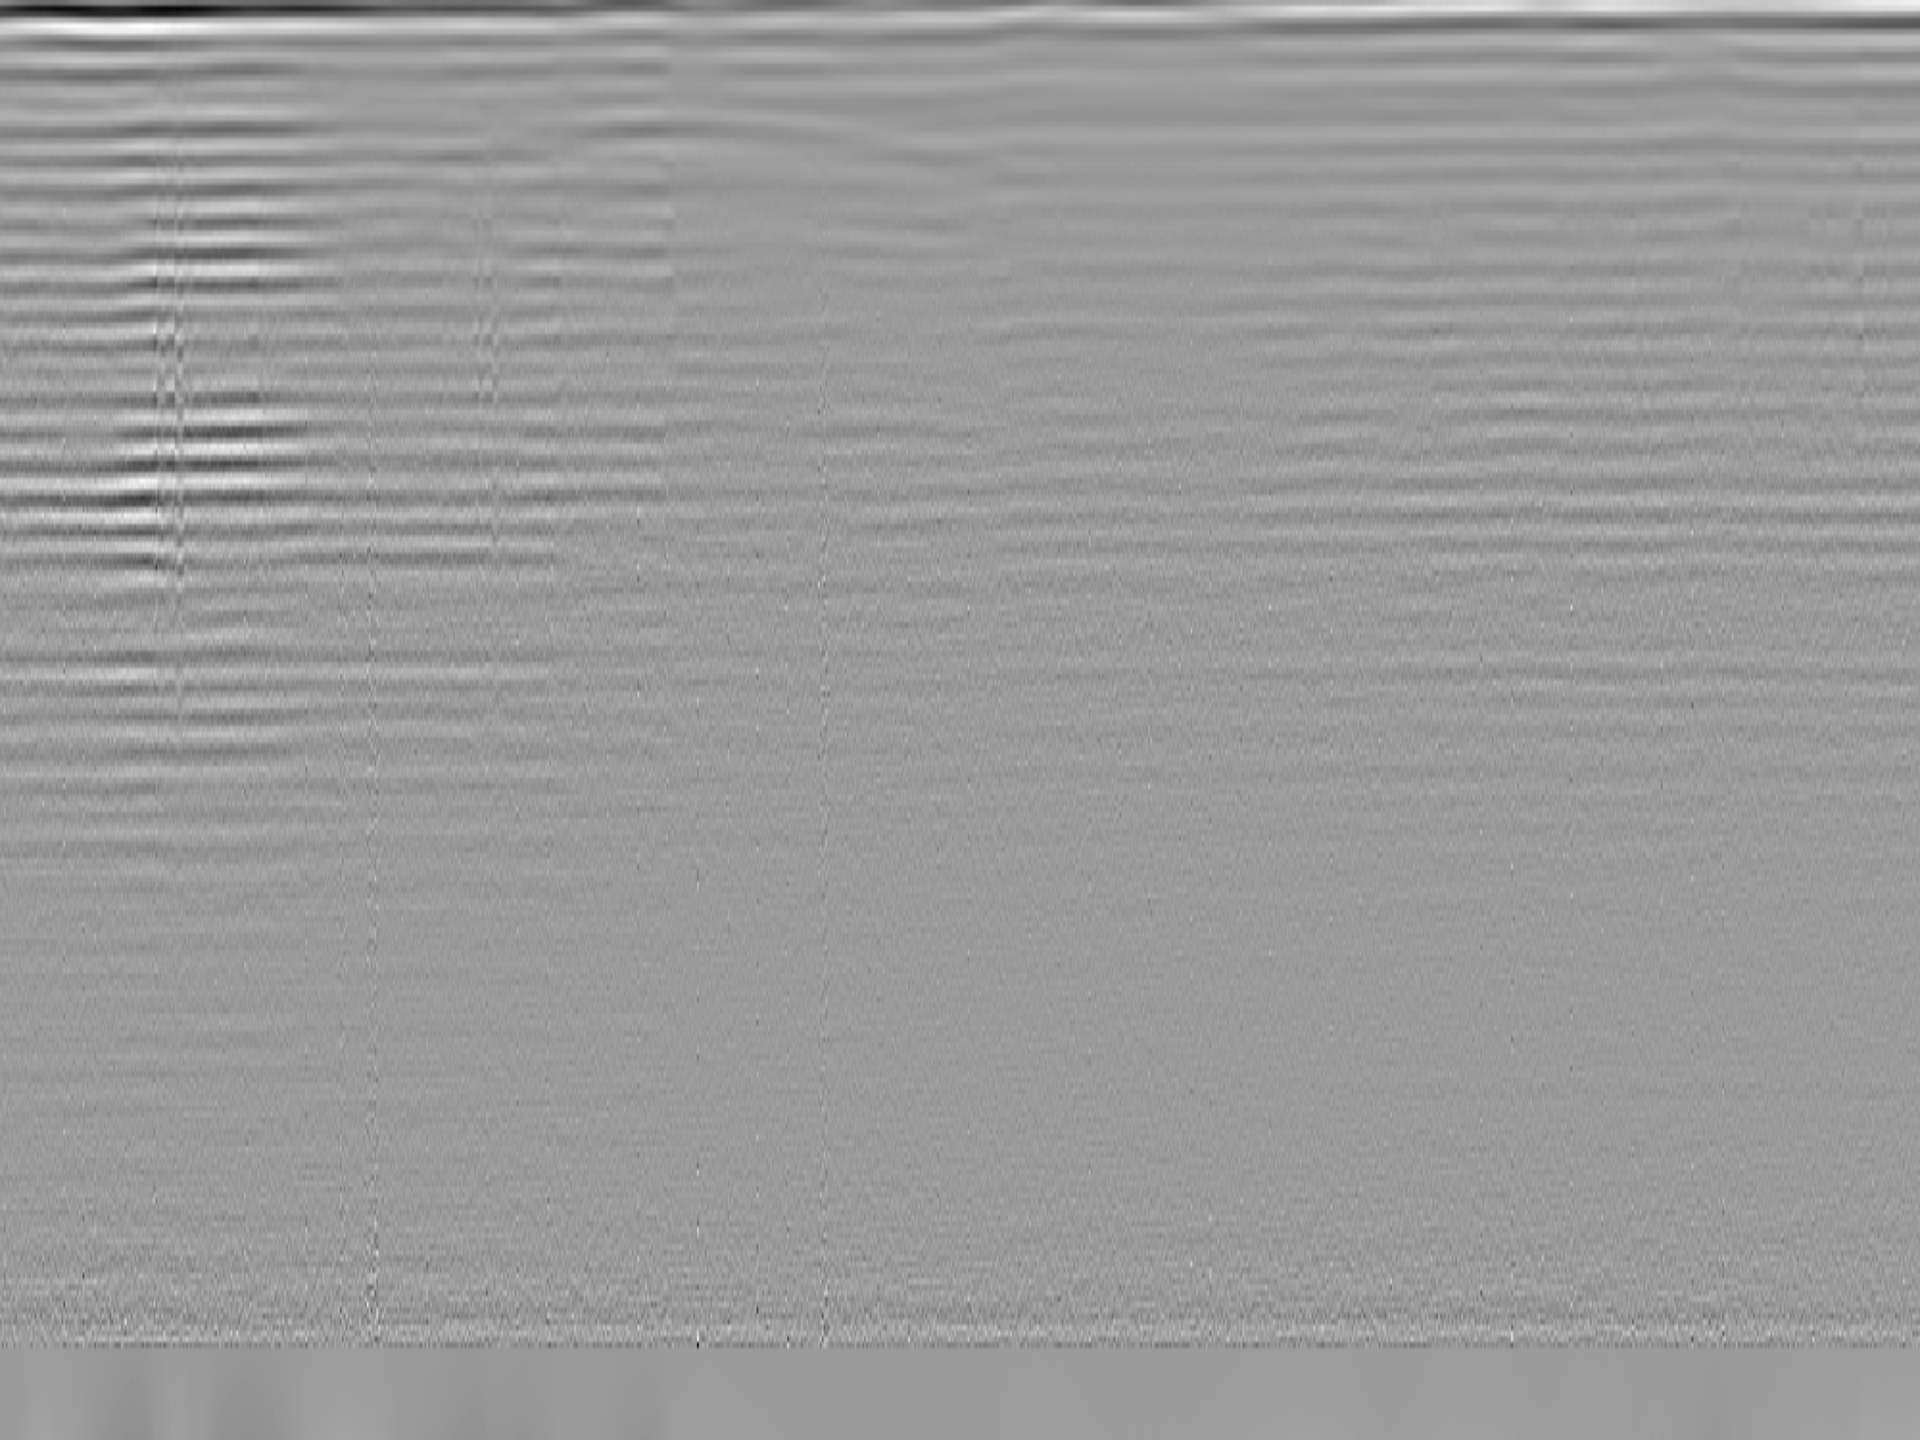Tunnel: (399, 109, 1049, 178)
